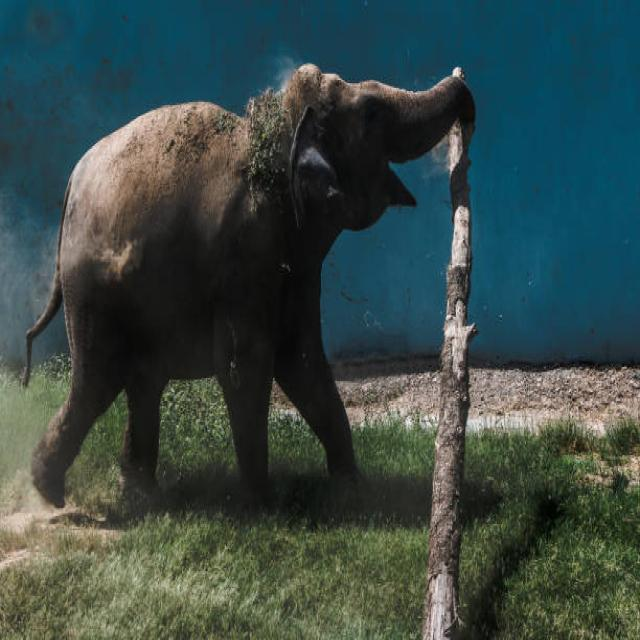Elephant: (22, 49, 480, 505)
